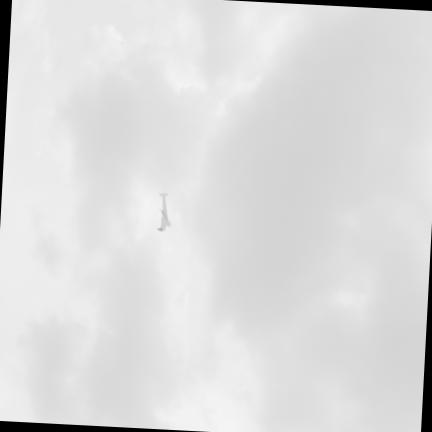Shahed: (157, 194, 170, 231)
